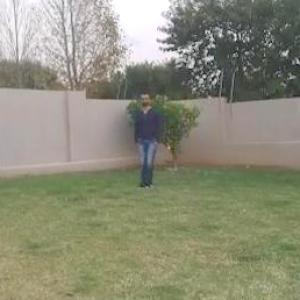follow: (132, 88, 160, 196)
